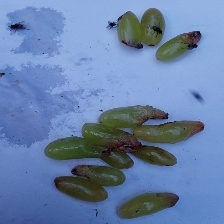grapes: (35, 28, 170, 218)
